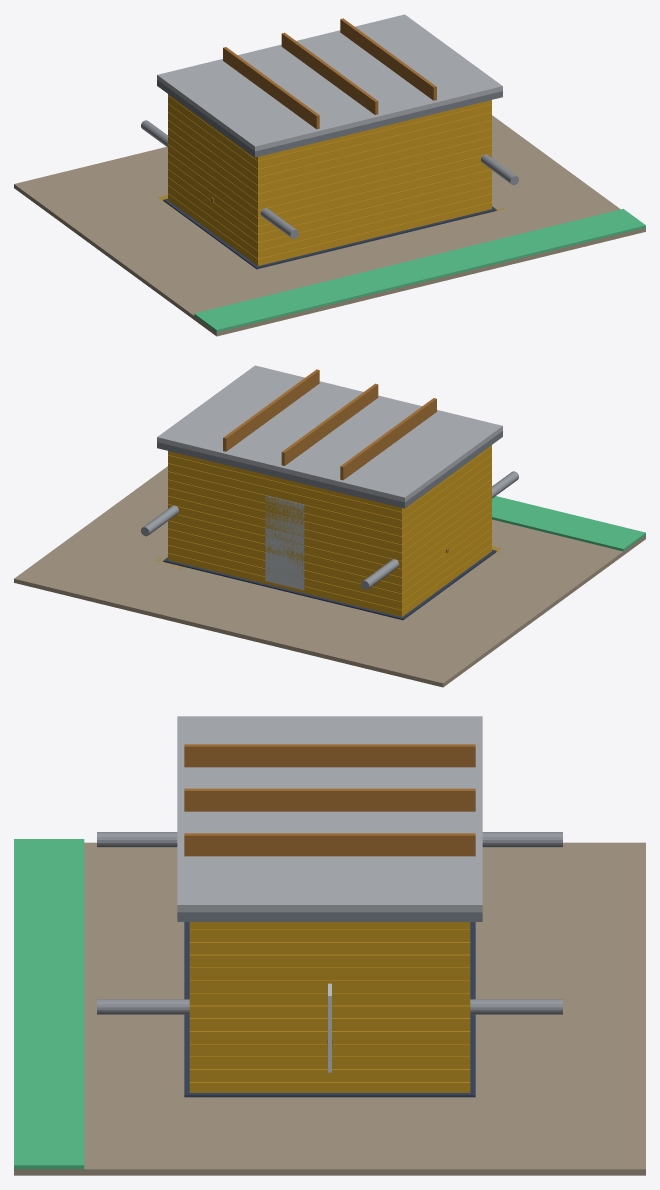
The model's file is stage_11_finishing.glb.
The picture shows the model from 3 angles, top to bottom: view 1: azimuth 30°, elevation 25°; view 2: azimuth 150°, elevation 25°; view 3: azimuth 270°, elevation 25°; orthographic projection. The views are drawn at different scales.
Visible parts, largest first — view 1: world; view 2: world; view 3: world.
Part boxes in pixels (box(x1,y1,x2,y2)): world: box(14, 14, 645, 336); world: box(14, 365, 645, 687); world: box(14, 716, 645, 1175).
Size of the model in its own units: 11 by 4.2 by 9.
